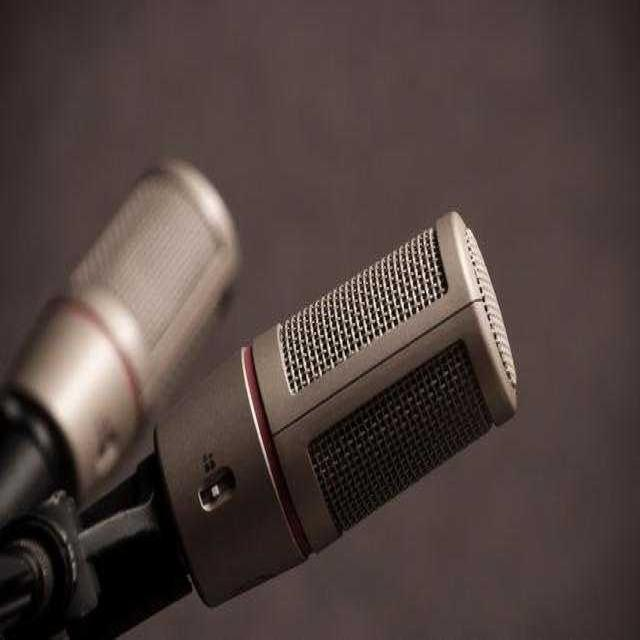microphone: (157, 212, 513, 602), (1, 162, 238, 632)
